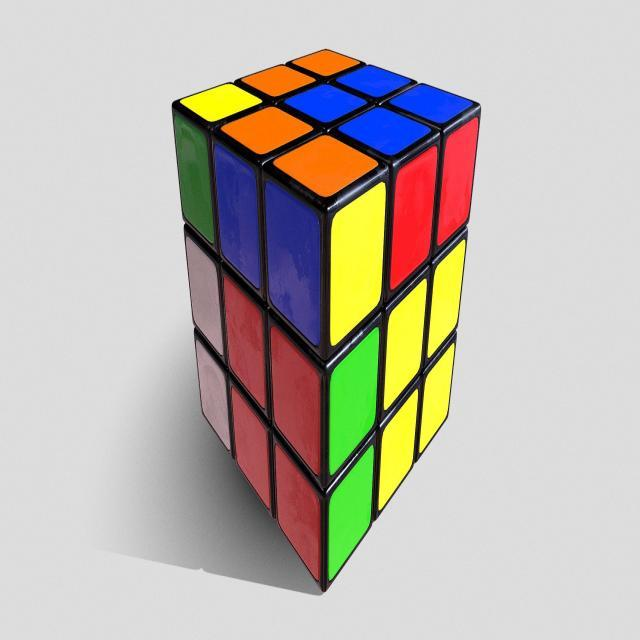Rub: (167, 43, 490, 598)
